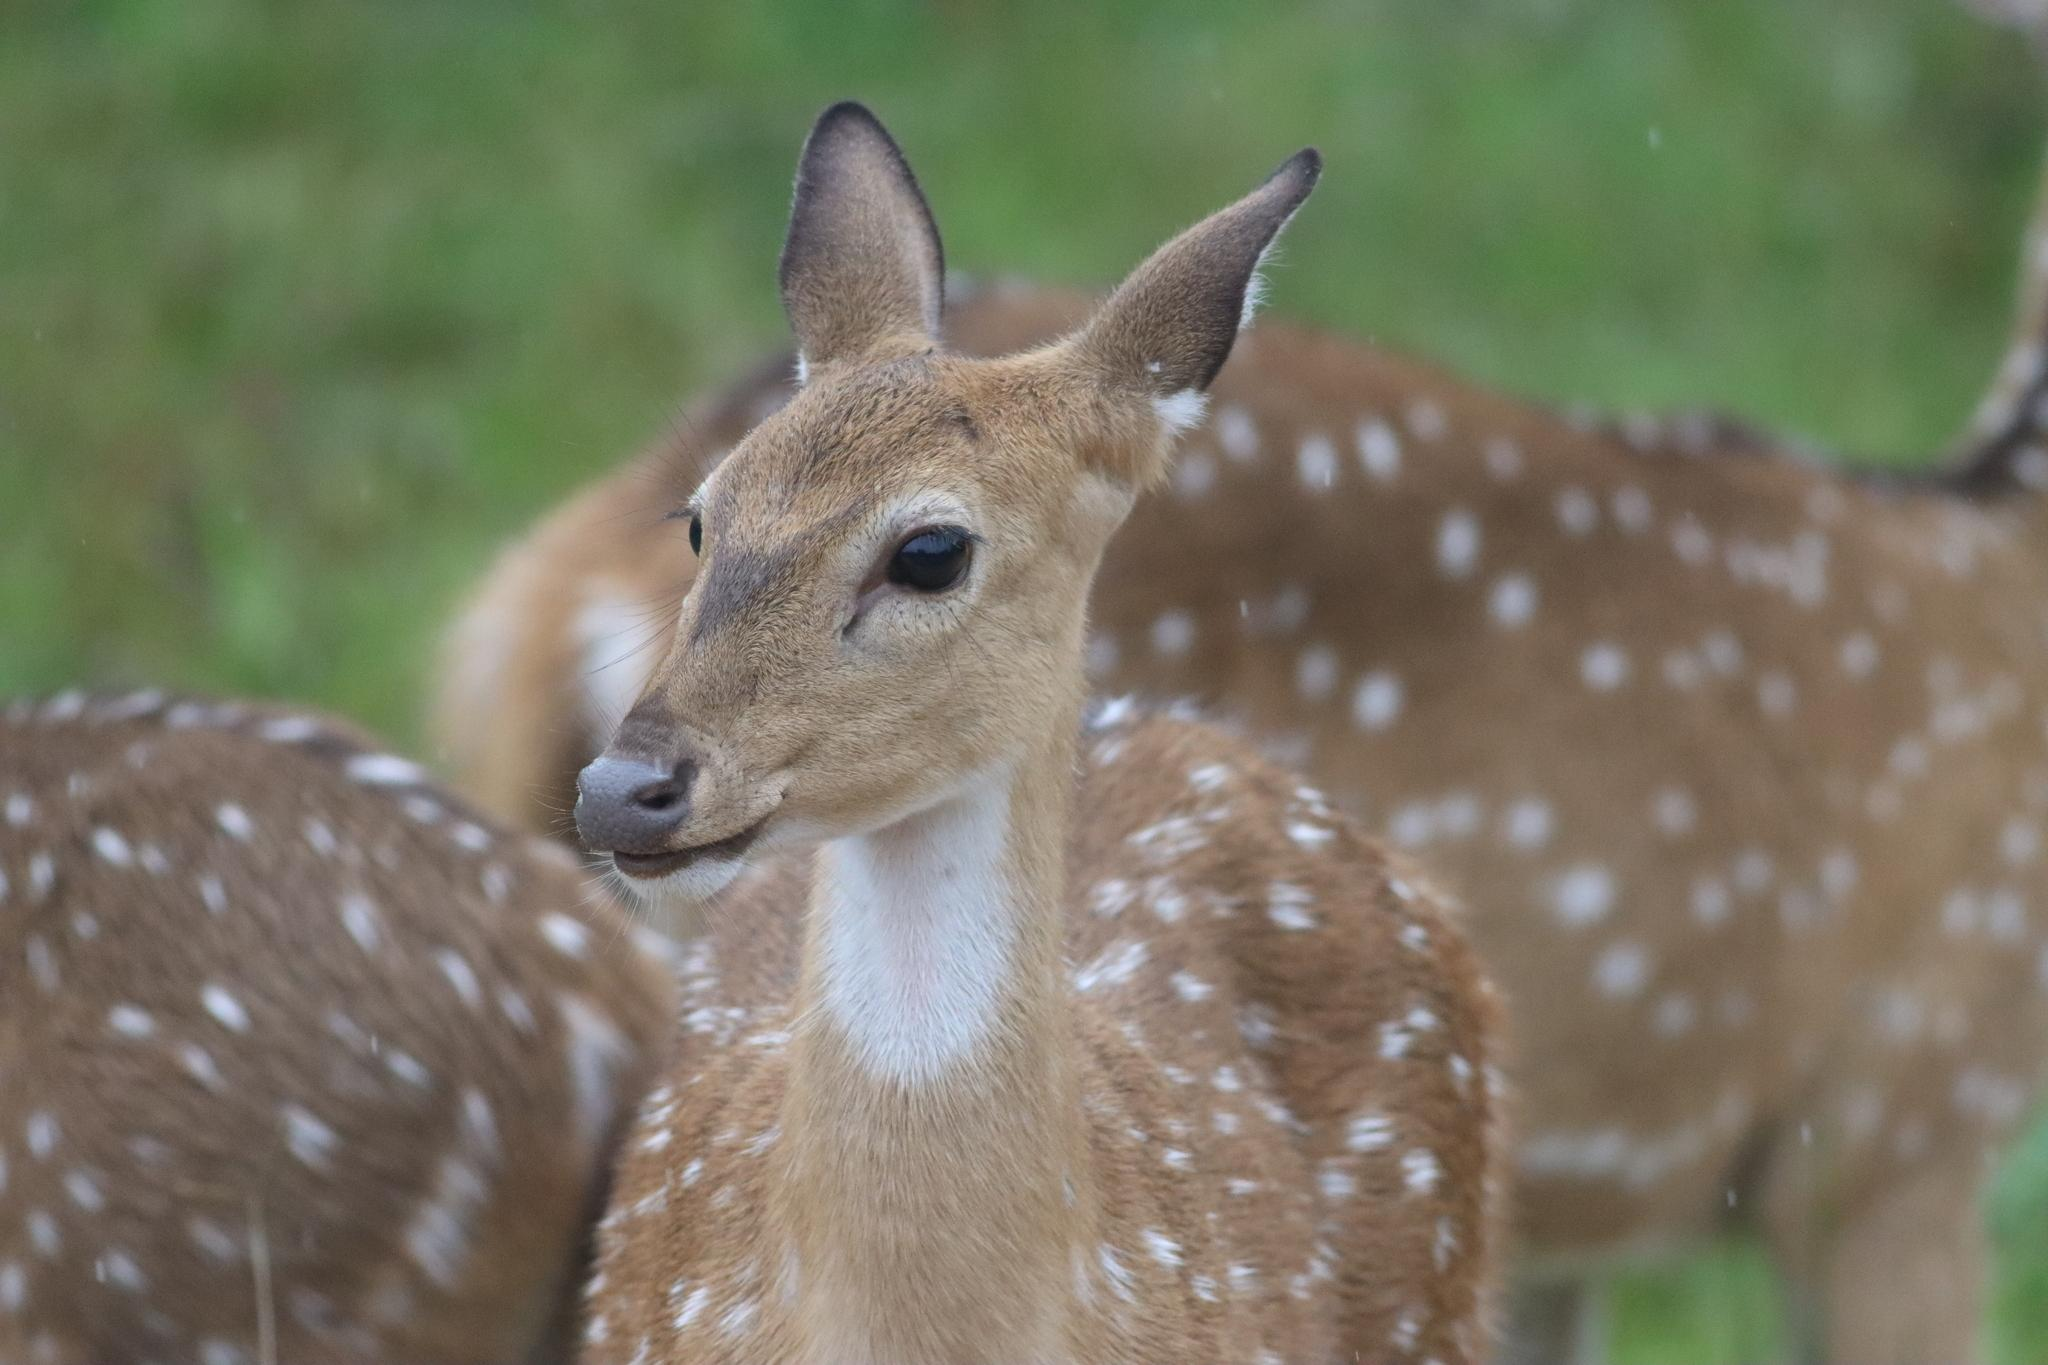Deer: (573, 104, 1509, 1363), (1089, 300, 2046, 1360), (0, 693, 678, 1363)
